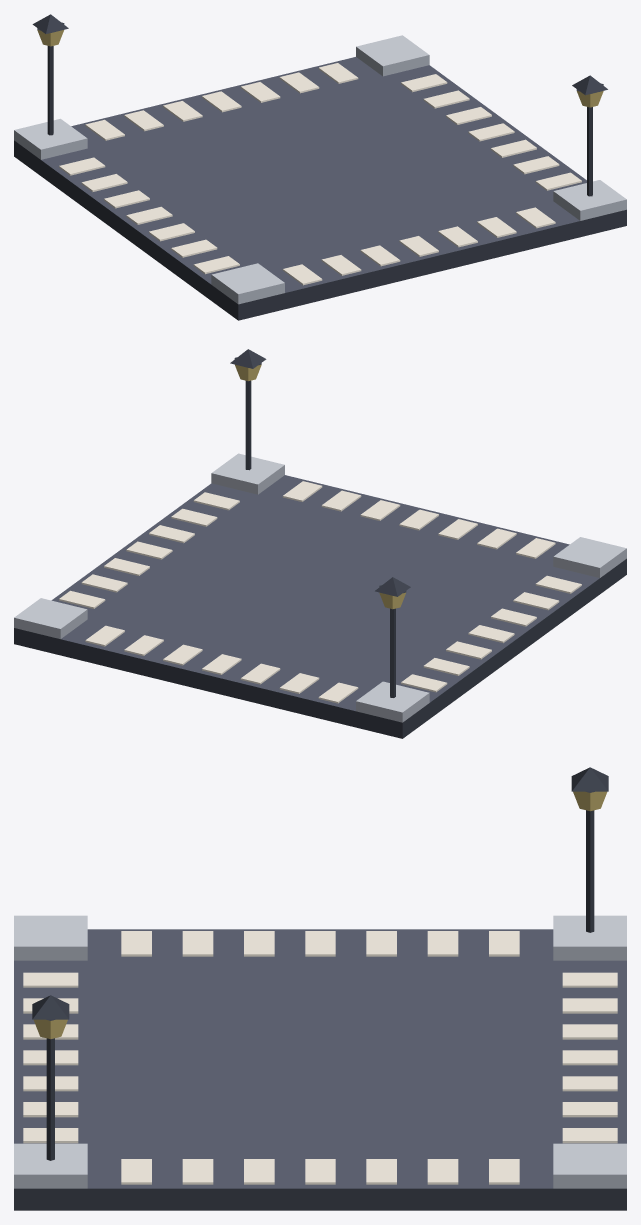
File: road_cross.glb
3 views of the same model, one above another, from view 1: azimuth 30°, elevation 25°; view 2: azimuth 150°, elevation 25°; view 3: azimuth 270°, elevation 25° (orthographic). The views are drawn at different scales.
Visible parts, largest first — view 1: road_cross; view 2: road_cross; view 3: road_cross.
Part boxes in pixels (bbox=[...]): road_cross: bbox=[14, 14, 626, 320]; road_cross: bbox=[14, 349, 626, 738]; road_cross: bbox=[14, 767, 626, 1210].
Size of the model in its own units: 1 by 0.36 by 1.
